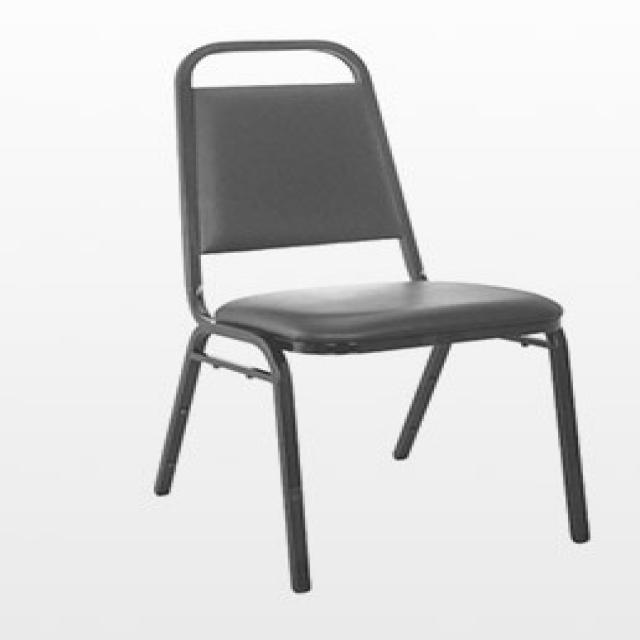chair: (148, 36, 590, 600)
